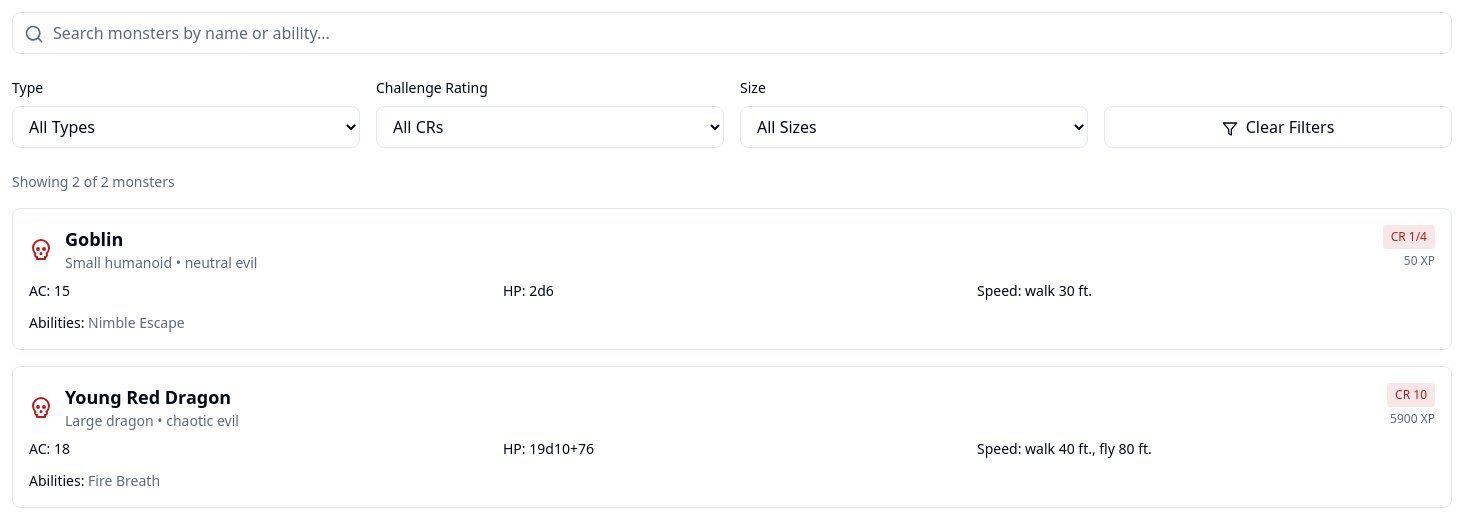
Test: MonsterBrowser › clears filters back to full results
This screenshot has width=1464, height=525.
Type "goblin" into the field labelled "Search monsters".
click(732, 33); type("goblin")  # box left=12, top=12, right=1452, bottom=54
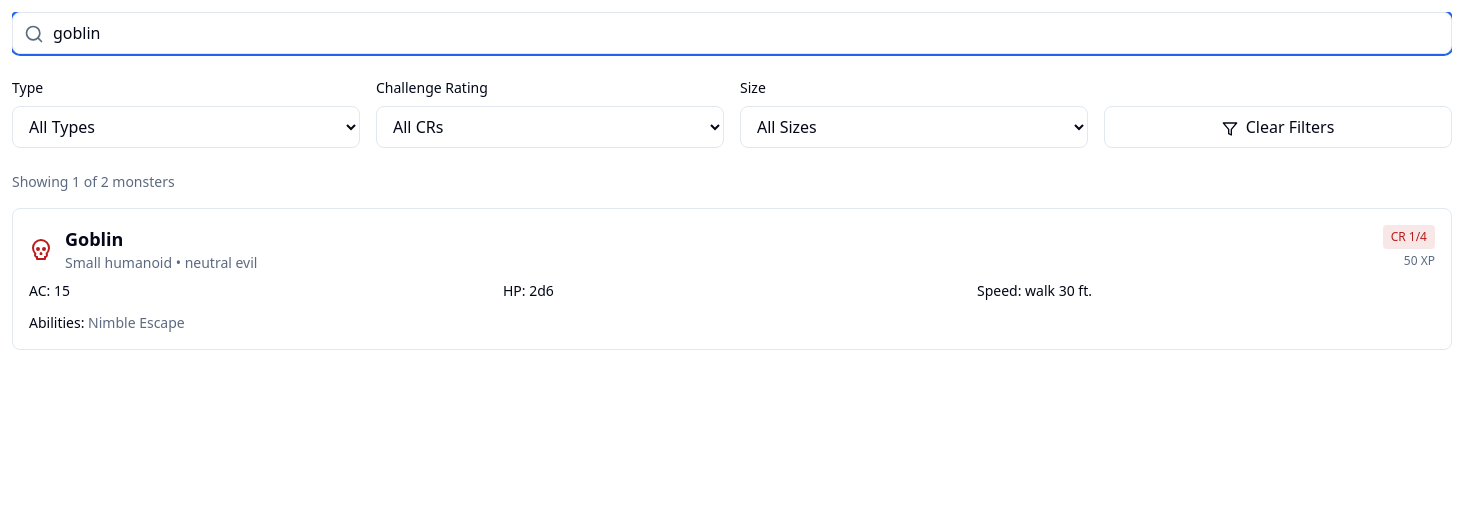
Now the text "Showing 1 of 2 monsters" is shown, box left=12, top=172, right=175, bottom=191
Click the button "Clear Filters".
click(1278, 127)  # box left=1104, top=106, right=1452, bottom=148
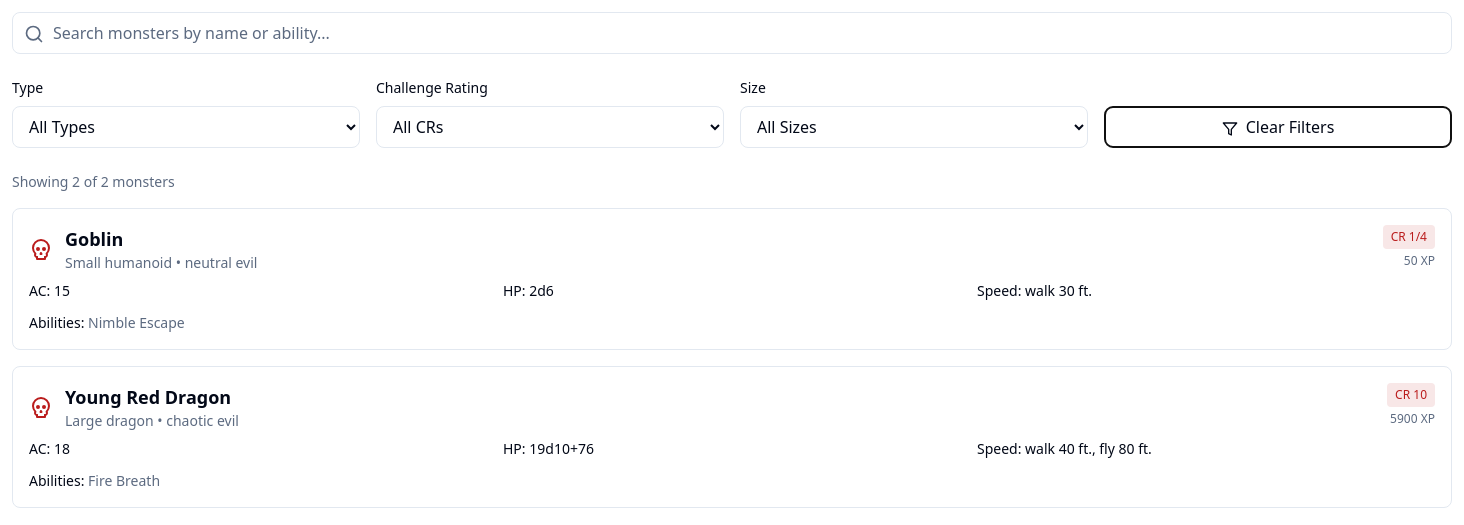
Now the text "Showing 2 of 2 monsters" is shown, box left=12, top=172, right=175, bottom=191
